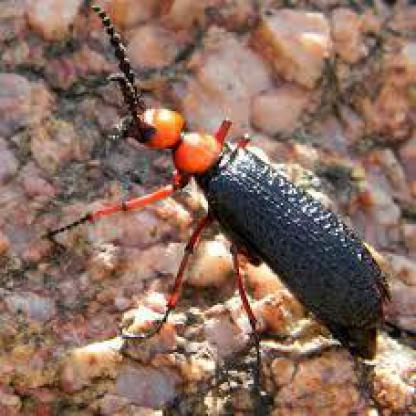blister beetle: (49, 5, 394, 362)
